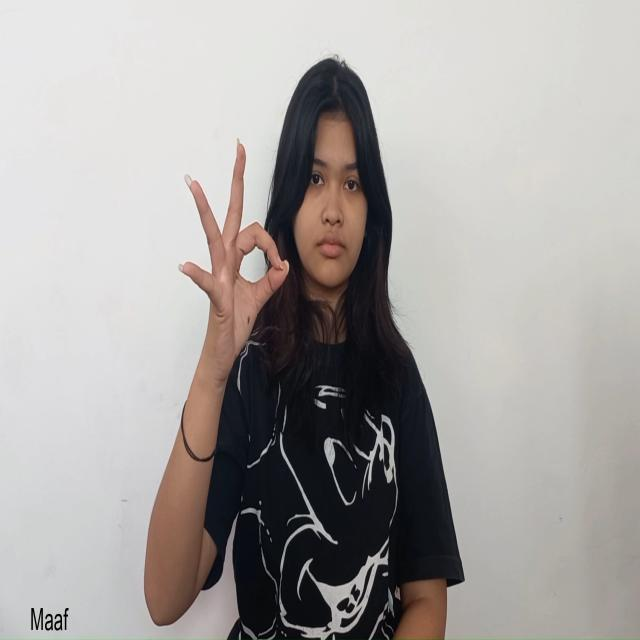Maaf -BISINDO-: (177, 133, 290, 397)
